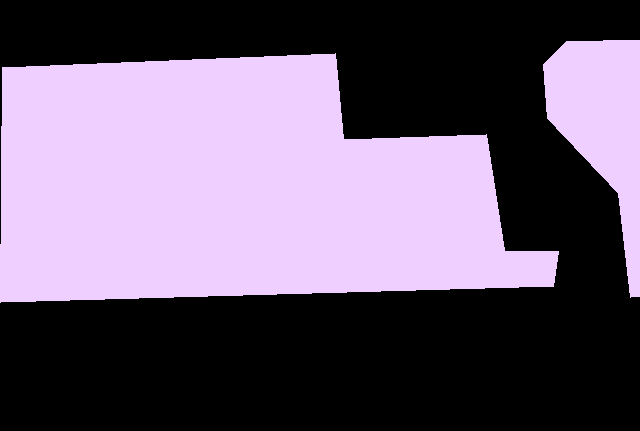Train: (0, 39, 640, 303)
